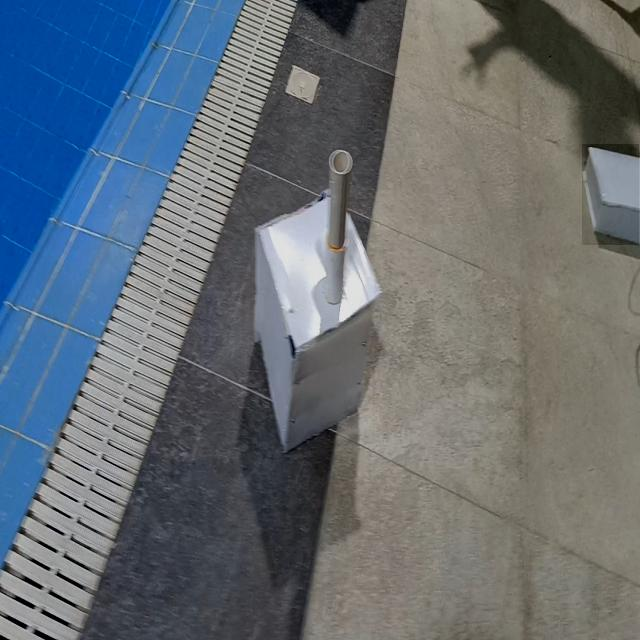Cube: (252, 186, 383, 452)
Cuboid: (582, 144, 639, 245)
